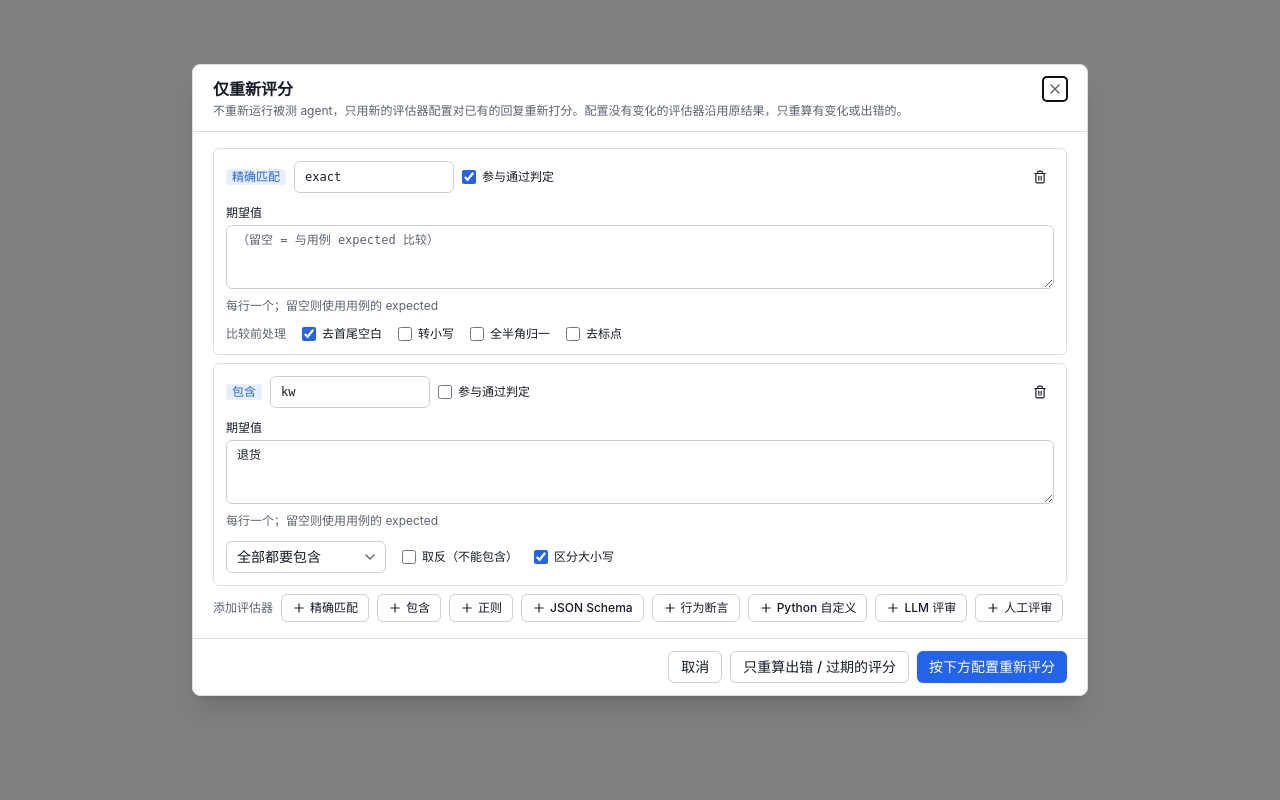
it: RescoreDialog › 配置无变化时服务端返回 0：提示没有需要重新评分的用例，不触发重新订阅
The image size is (1280, 800).
Click the button with test id "submit-rescore": (992, 667) [917,651,1067,683]
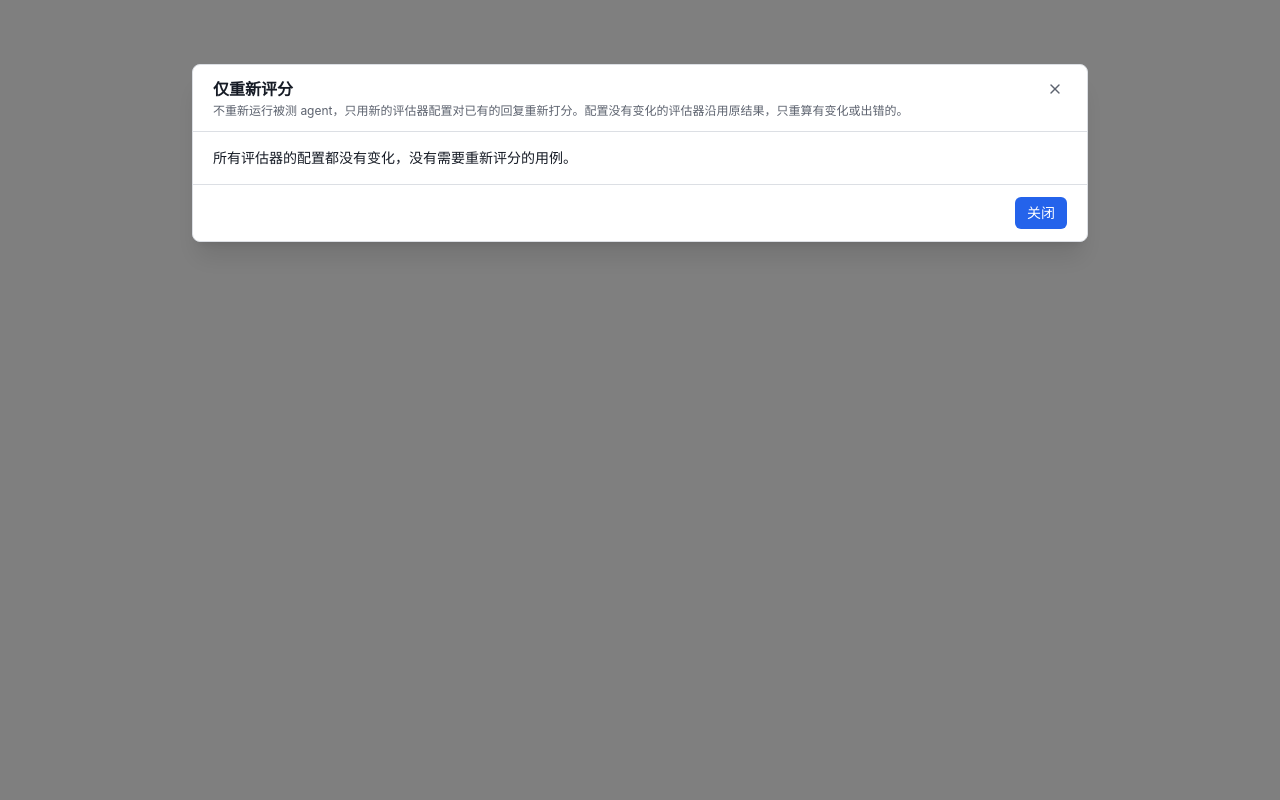
Expected: the element with test id "rescore-result" shows "没有变化", [213,149,577,166]
